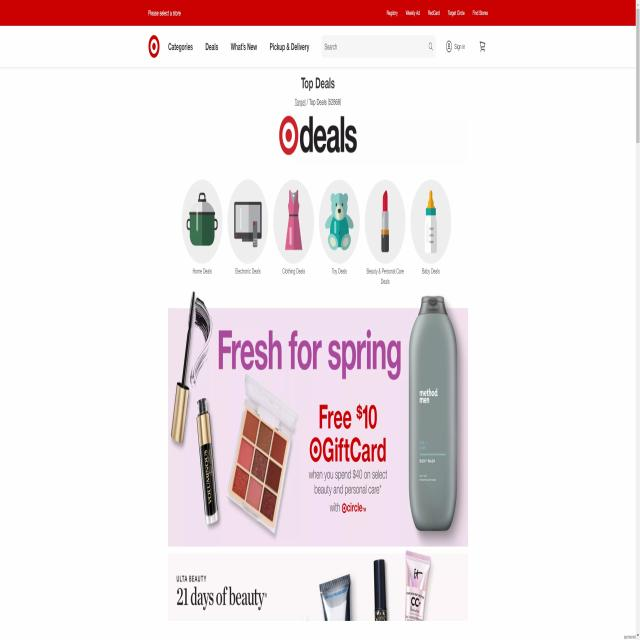menu-bar: (442, 35, 492, 60)
search: (321, 34, 438, 61)
tab-bar: (145, 33, 311, 60)
